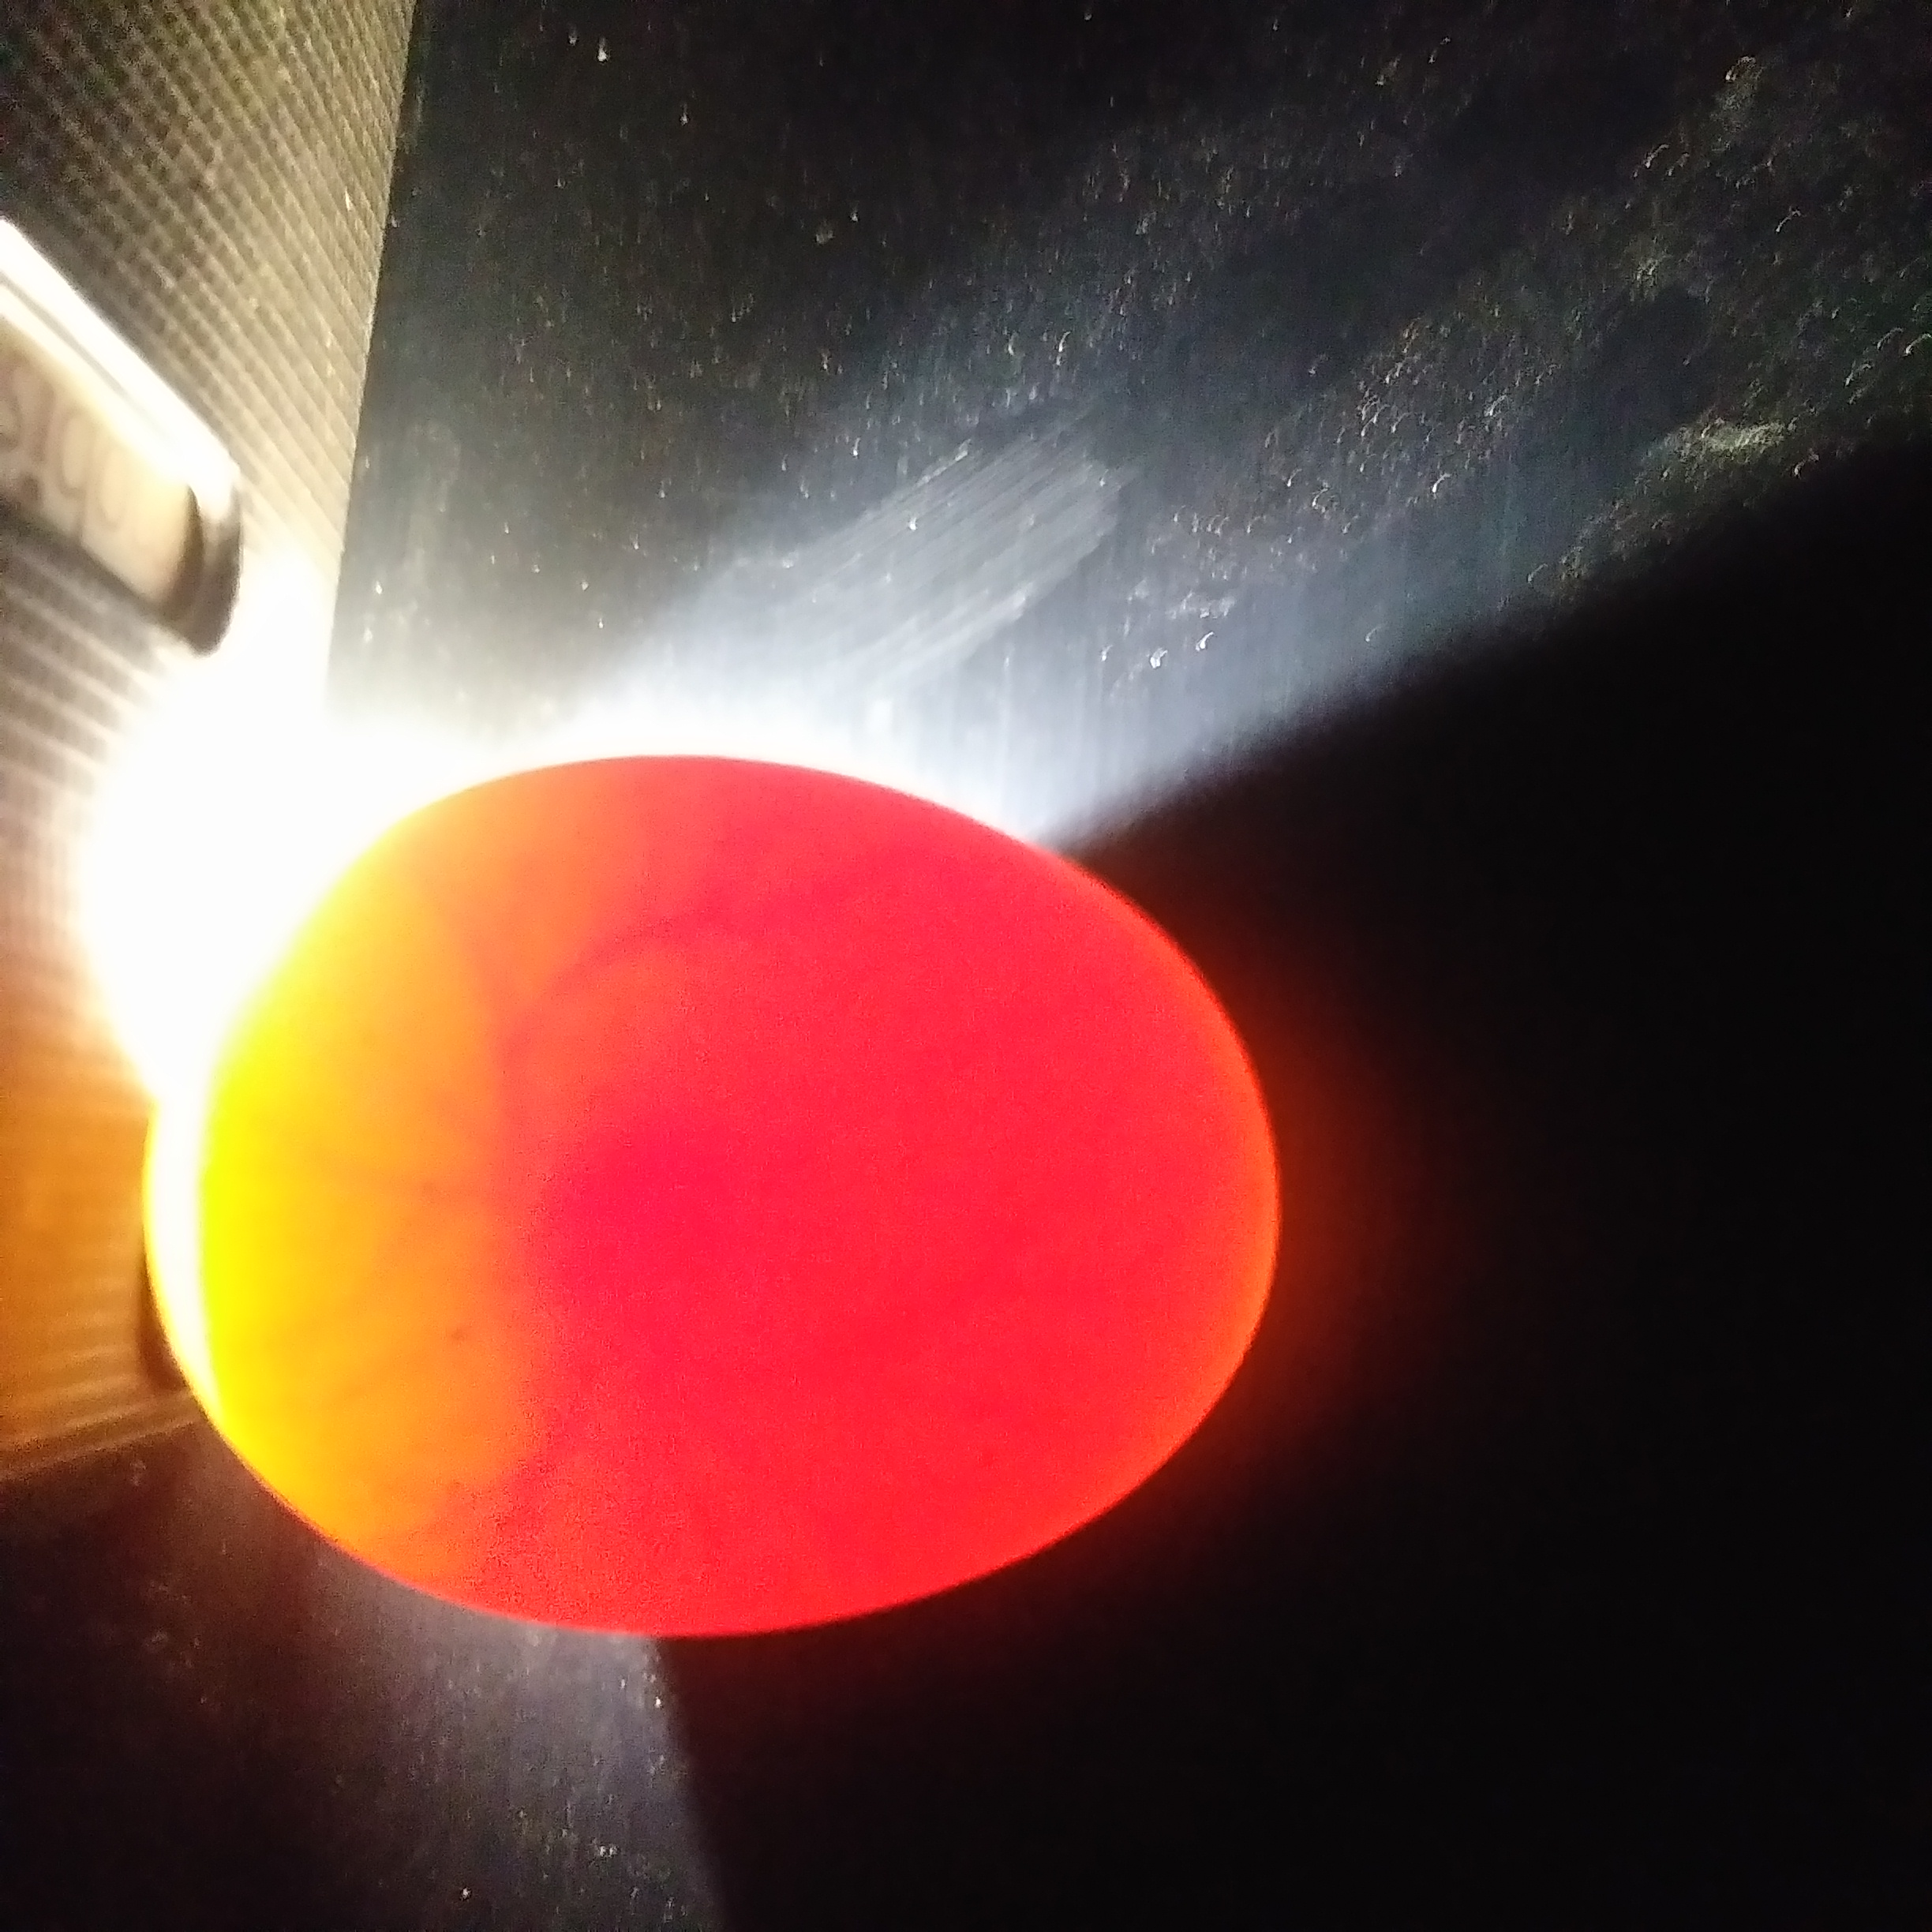bloodcell: (387, 1346, 791, 1573), (419, 878, 856, 1085)
embryo: (538, 1154, 727, 1315)
